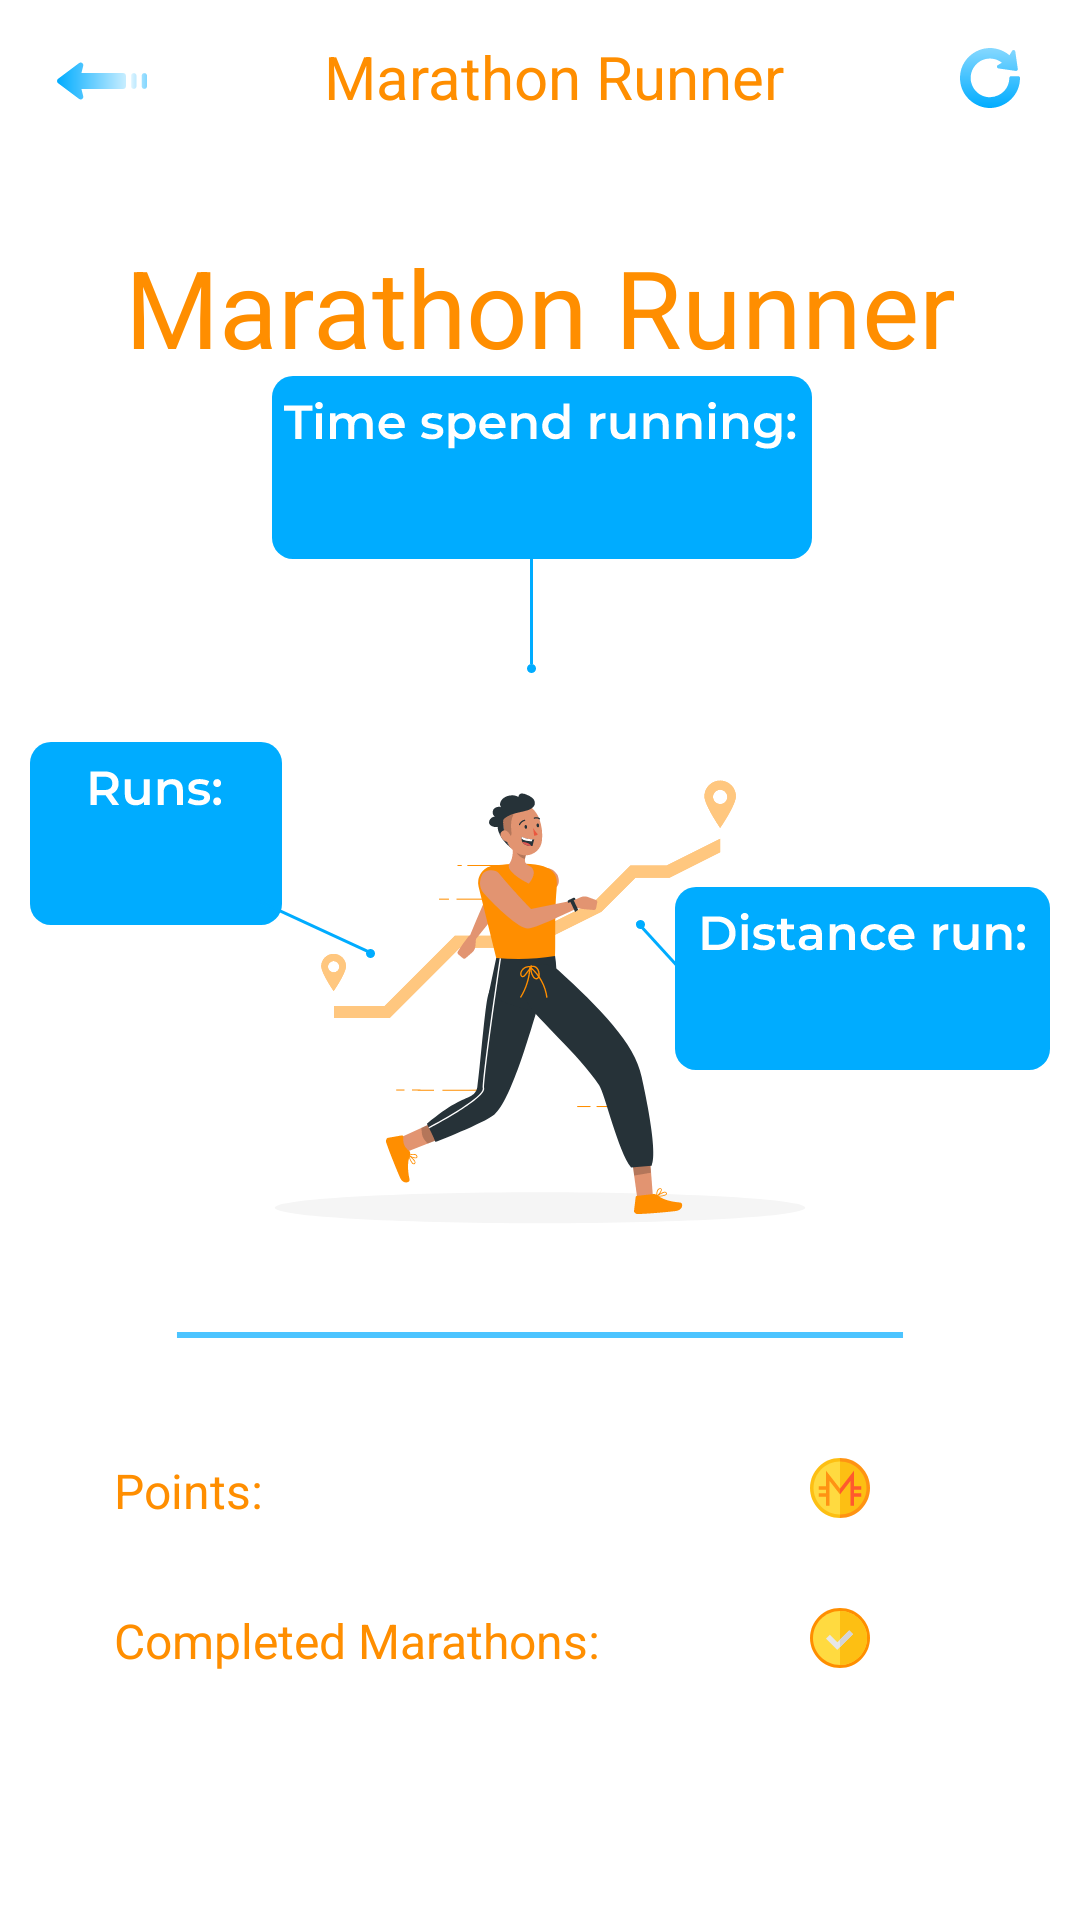

Named icons in this screenshot (1080px x 1920px) and their centers, (x,y):
arrow: (102,81)
refresh: (990,78)
